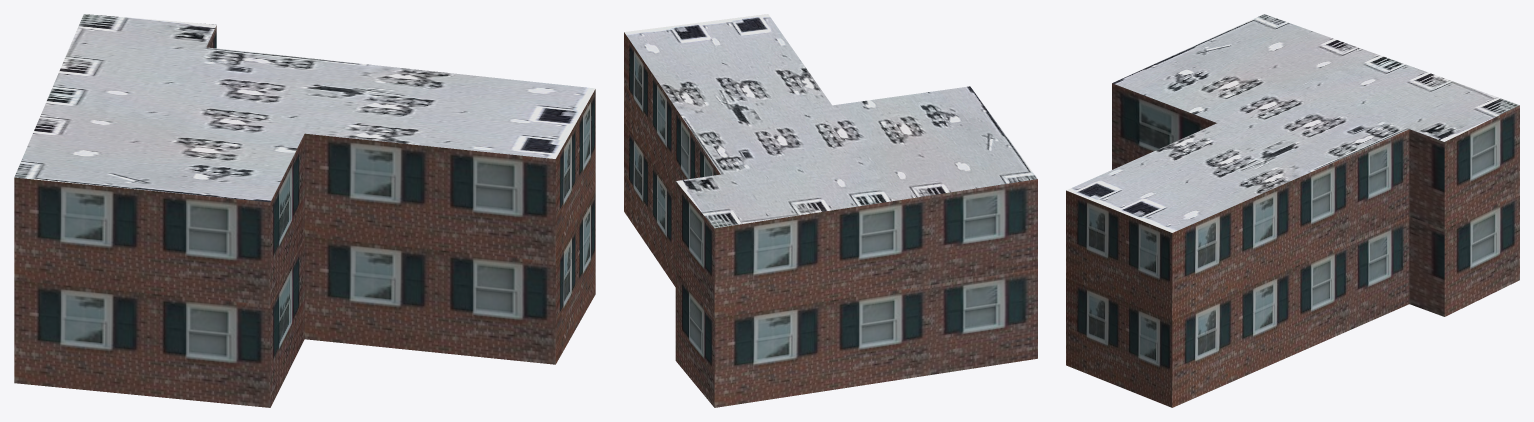
File: ResTex__4368.fbx
The picture shows the model from 3 angles, left to right: view 1: azimuth 30°, elevation 25°; view 2: azimuth 150°, elevation 25°; view 3: azimuth 270°, elevation 25°; orthographic projection. The views are drawn at different scales.
Visible parts, largest first — view 1: CityEngineMaterial_14_m, CityEngineMaterial_m; view 2: CityEngineMaterial_14_m, CityEngineMaterial_m; view 3: CityEngineMaterial_14_m, CityEngineMaterial_m.
Part boxes in pixels (x1=…): CityEngineMaterial_14_m: x1=14, y1=25, x2=595, y2=407; CityEngineMaterial_m: x1=14, y1=14, x2=595, y2=202; CityEngineMaterial_14_m: x1=624, y1=32, x2=1037, y2=407; CityEngineMaterial_m: x1=624, y1=14, x2=1037, y2=228; CityEngineMaterial_14_m: x1=1066, y1=83, x2=1519, y2=407; CityEngineMaterial_m: x1=1066, y1=14, x2=1519, y2=232.
Size of the model in its own units: 16.11 by 6 by 14.11.
Materials: 2 (2 with a texture image).
